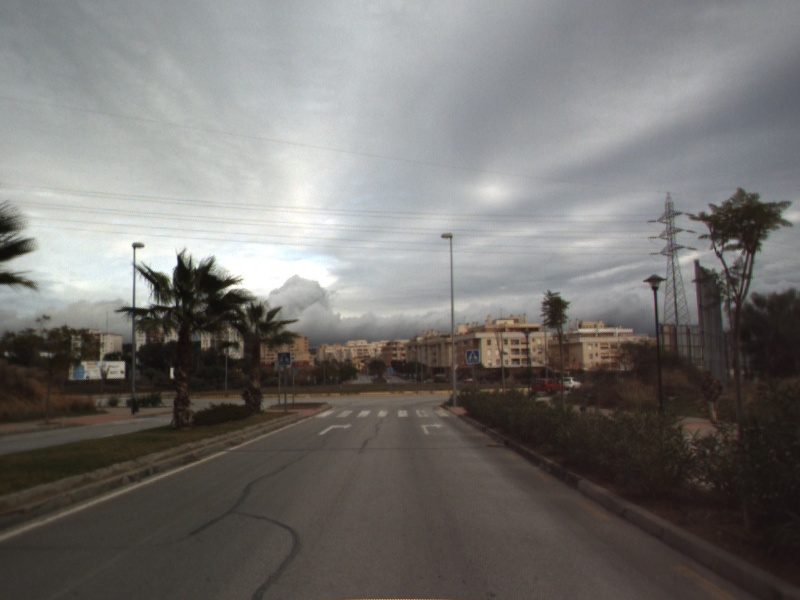RIGHT: (316, 421, 354, 437), (419, 420, 445, 436)
